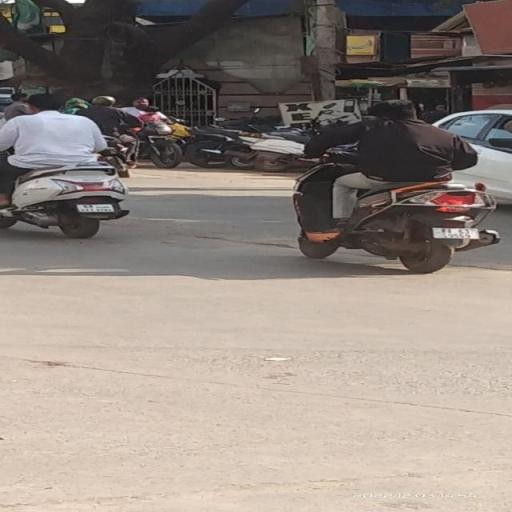using mobile: (374, 114, 395, 124)
